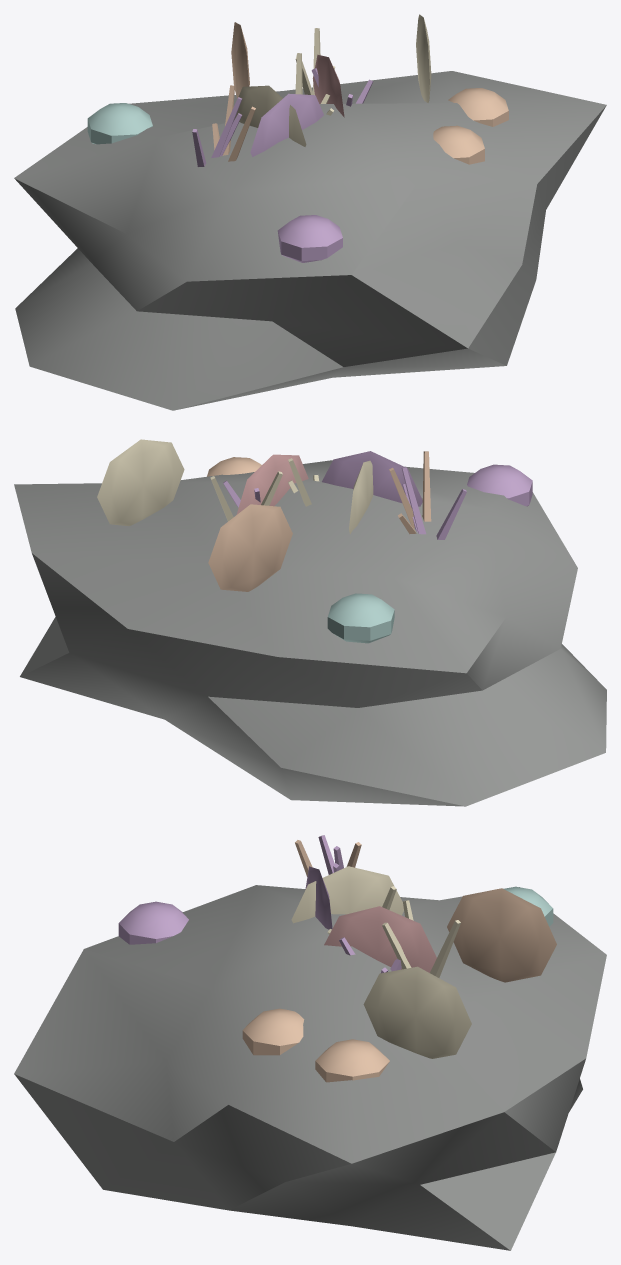
File: reef_b.gltf
3 renders of one model, top to bottom at view 1: azimuth 30°, elevation 25°; view 2: azimuth 150°, elevation 25°; view 3: azimuth 270°, elevation 25°, orthographic. The views are drawn at different scales.
Parts seen in each view (by area): view 1: Body; view 2: Body; view 3: Body.
Boxes of the visible parts, <box> form: Body: <box>14,14,606,410</box>; Body: <box>14,439,606,806</box>; Body: <box>14,835,606,1250</box>.
Bounding box in the file's own units: 5.63 × 2.62 × 4.52.
